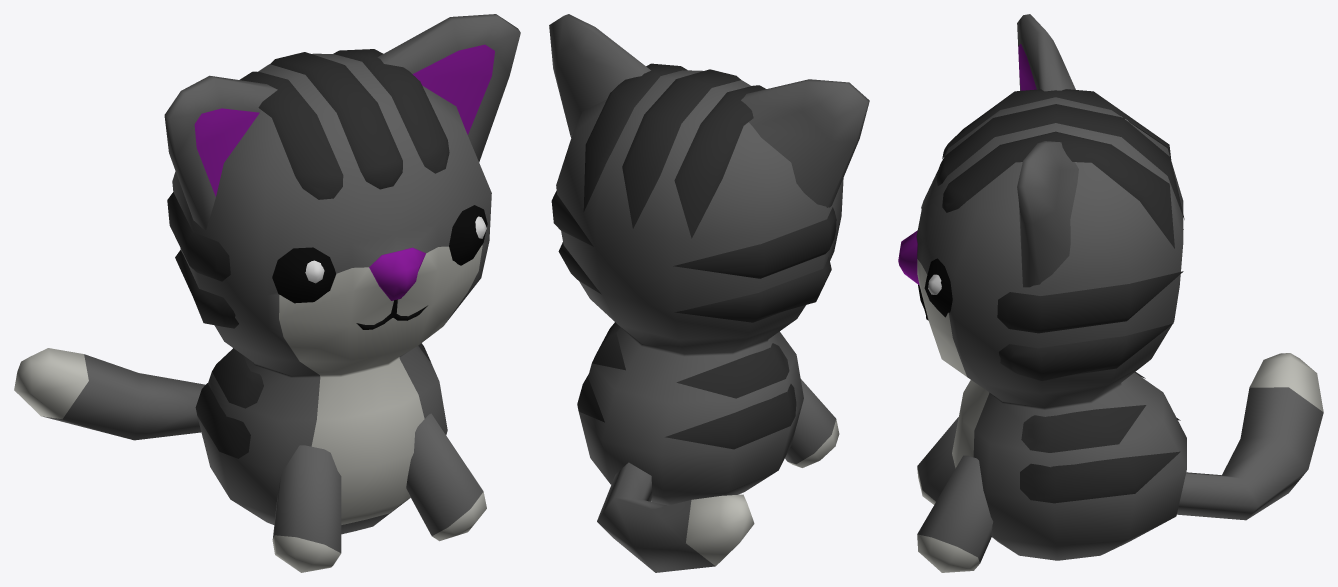
File: kitten_01.FBX
3 renders of one model, left to right at view 1: azimuth 30°, elevation 25°; view 2: azimuth 150°, elevation 25°; view 3: azimuth 270°, elevation 25°, orthographic. The views are drawn at different scales.
Parts seen in each view (by area): view 1: kitten_01, kitten_grey_Tail, kitten_grey_legs _R, kitten_grey_legs _L001; view 2: kitten_01, kitten_grey_Tail, kitten_grey_legs _R; view 3: kitten_01, kitten_grey_Tail, kitten_grey_legs _L001, kitten_grey_legs _R.
Boxes of the visible parts, x1,y1,x2,y2 form: kitten_01: (164, 14, 520, 534); kitten_grey_Tail: (14, 348, 205, 440); kitten_grey_legs _R: (272, 445, 341, 572); kitten_grey_legs _L001: (406, 413, 486, 541); kitten_01: (549, 14, 869, 505); kitten_grey_Tail: (597, 462, 754, 572); kitten_grey_legs _R: (785, 379, 839, 467); kitten_01: (898, 14, 1186, 560); kitten_grey_Tail: (1177, 353, 1323, 520); kitten_grey_legs _L001: (917, 455, 993, 572); kitten_grey_legs _R: (917, 417, 958, 504).
Bounding box in the file's own units: 12.27 × 15.38 × 13.13.
